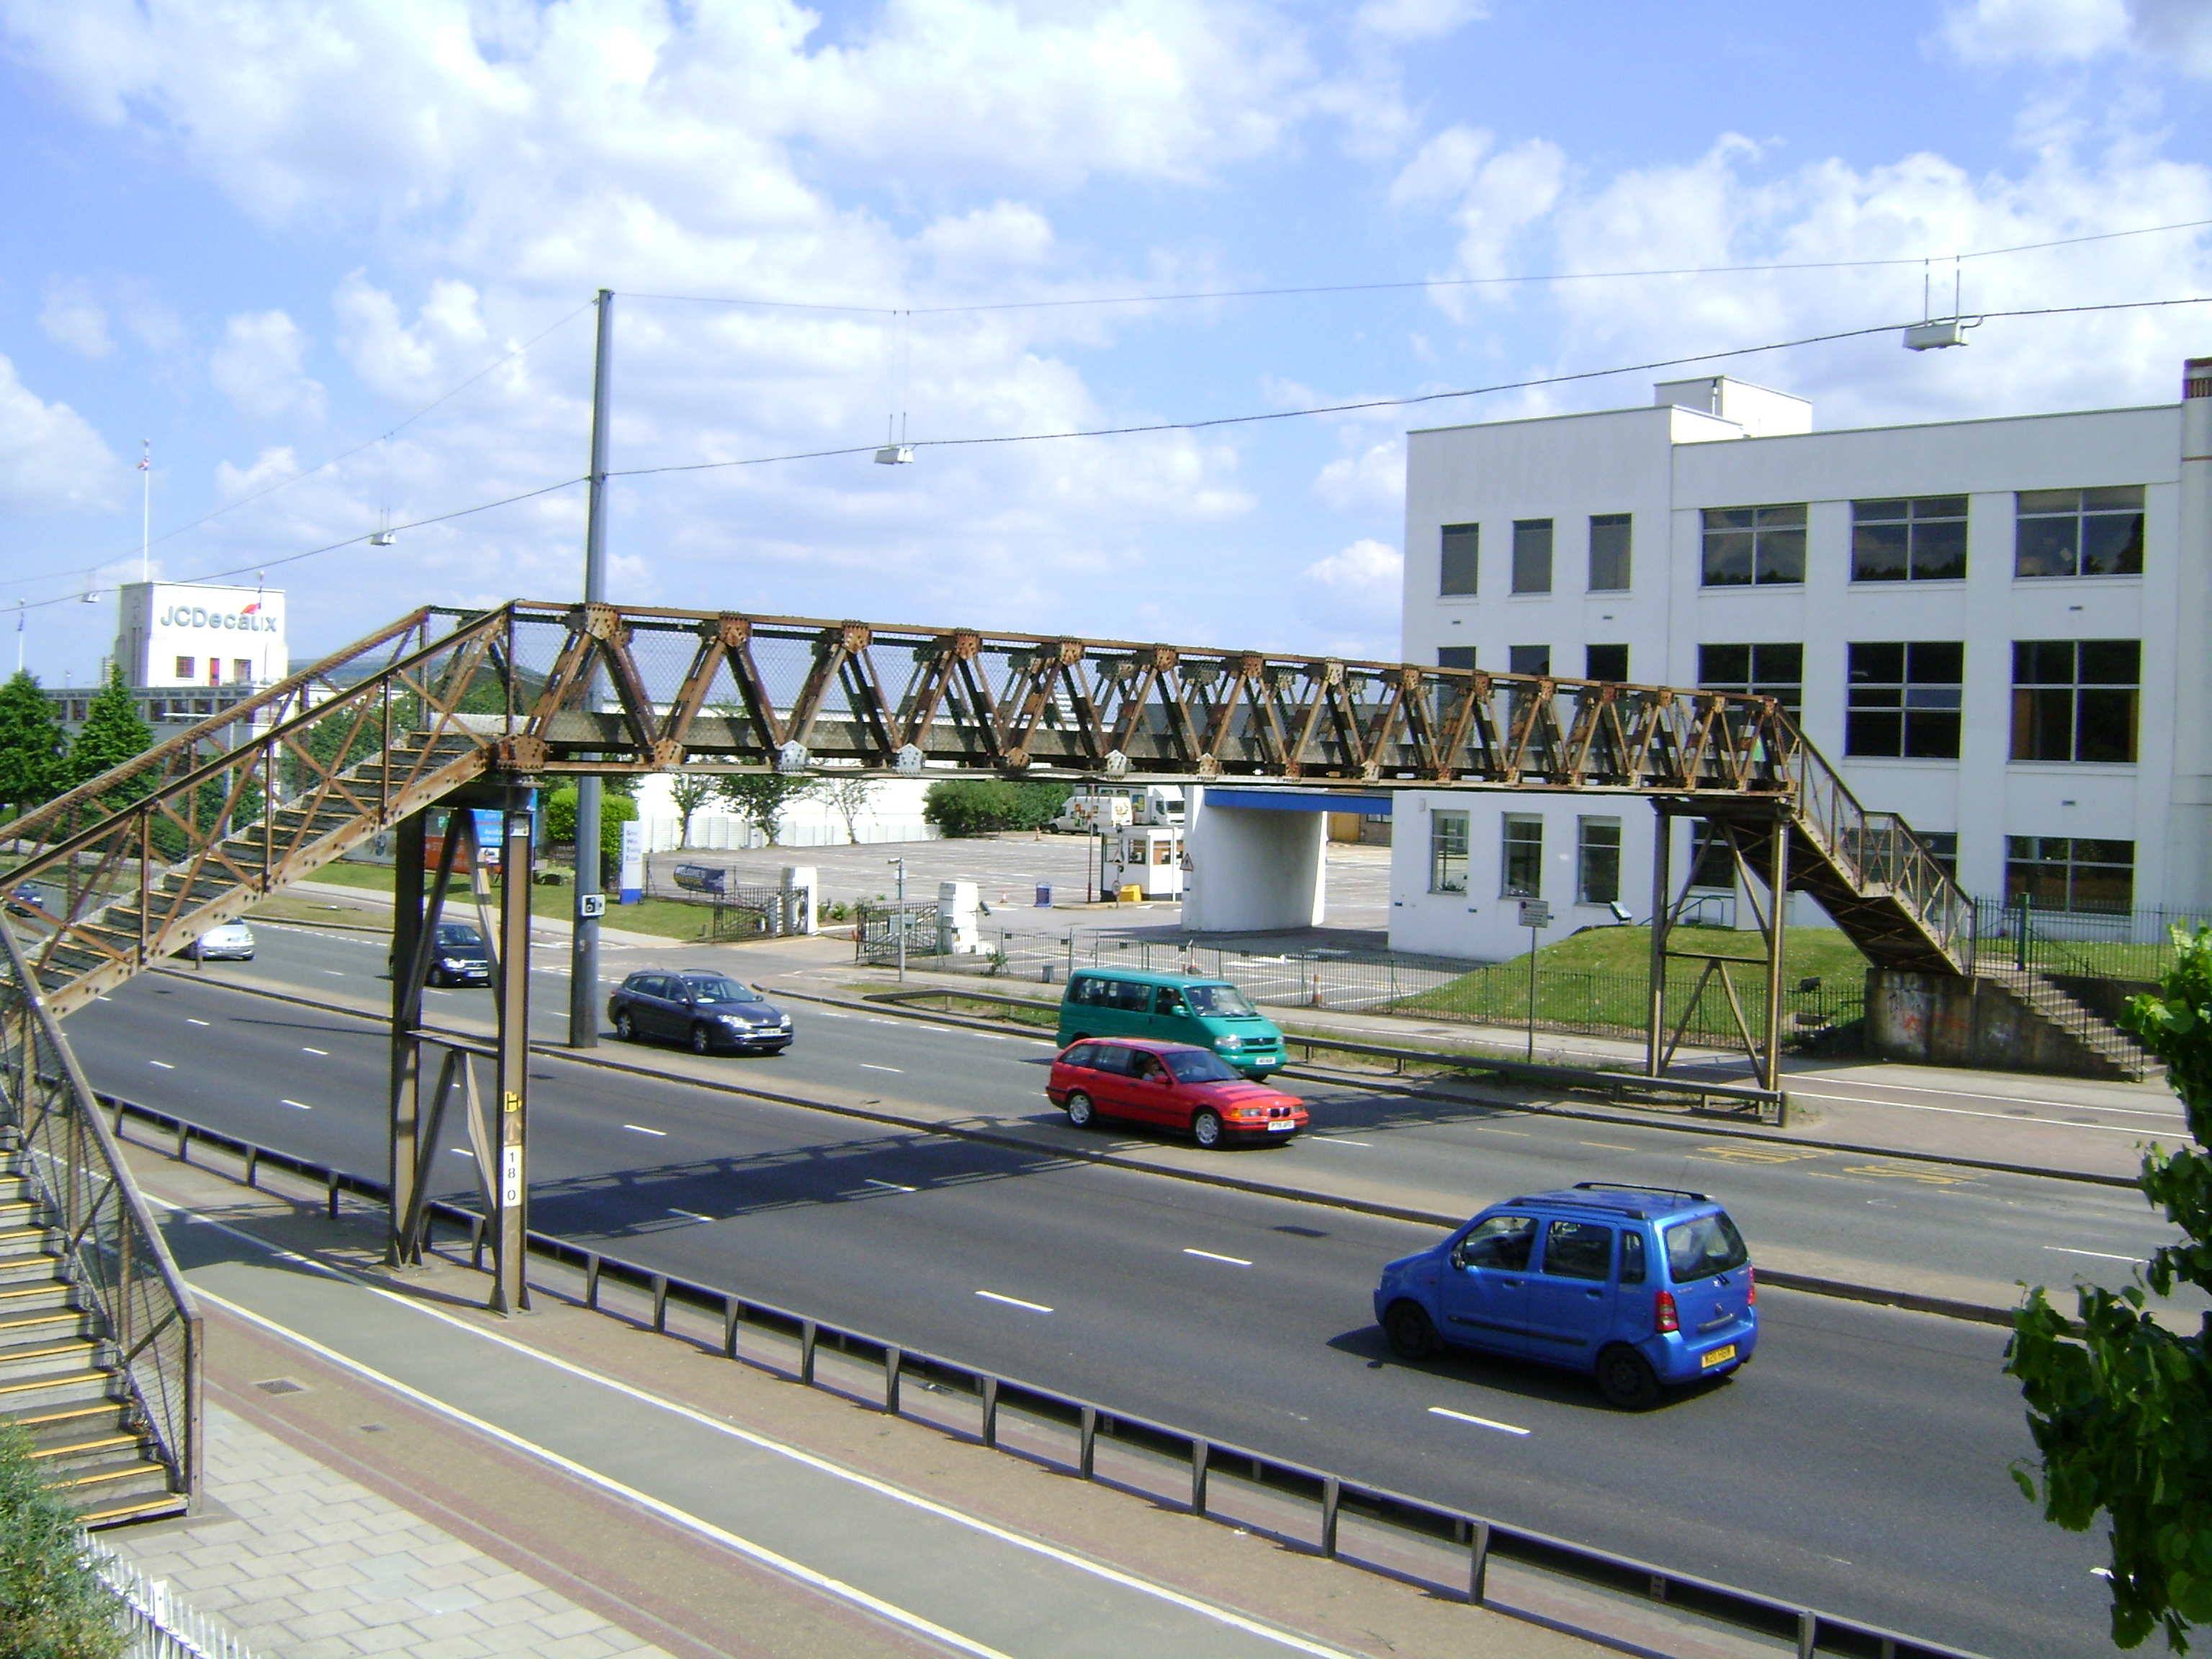bridge: (14, 599, 2031, 986)
